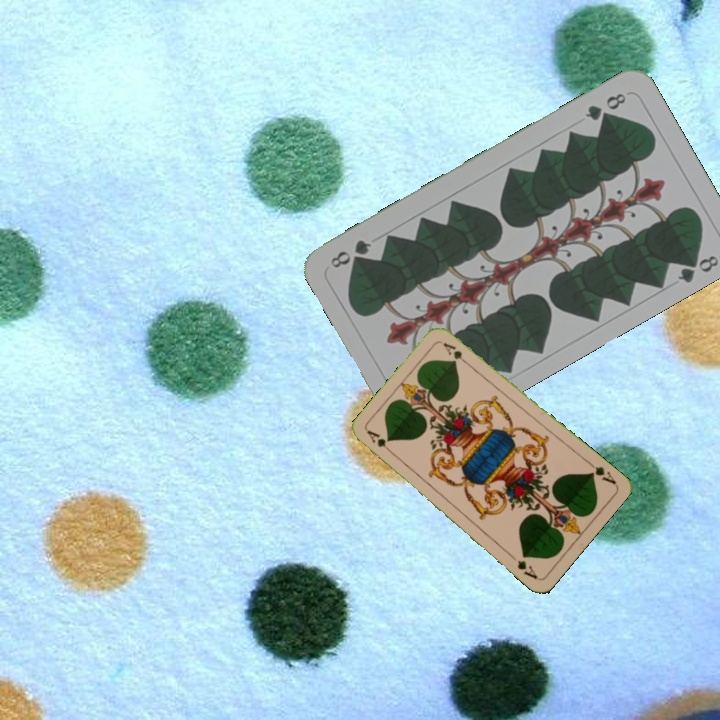G8: (580, 88, 629, 124)
GA: (363, 426, 397, 458), (583, 457, 619, 487)
